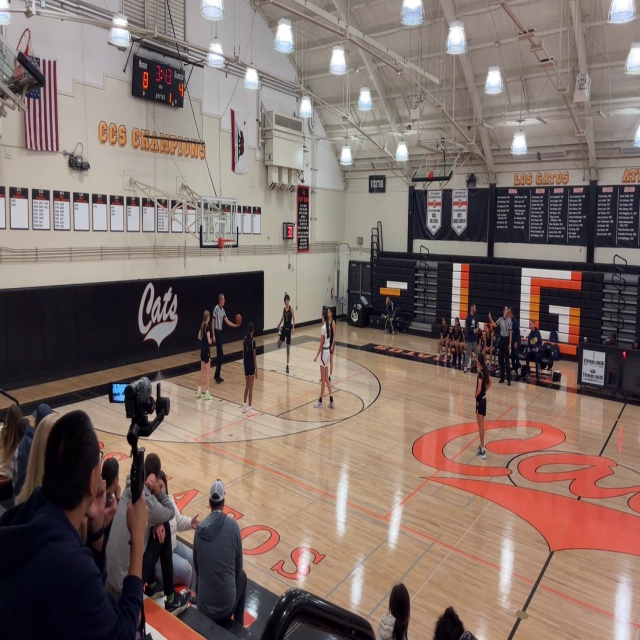Basketball: (235, 314, 241, 326)
